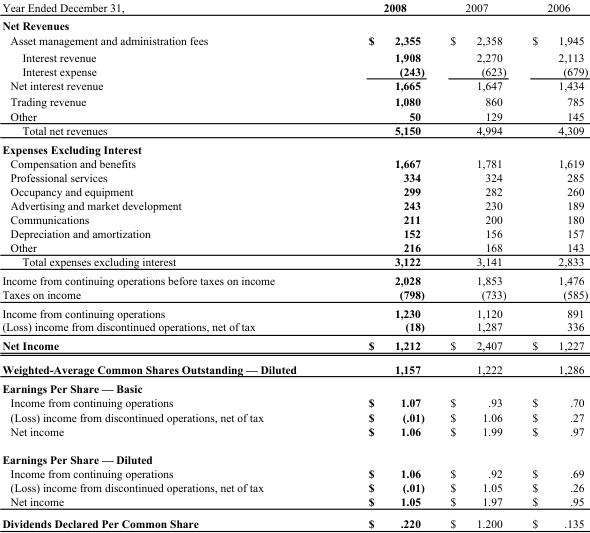table: (1, 0, 587, 529)
table column: (1, 0, 331, 529), (331, 0, 436, 529), (436, 0, 518, 529), (518, 0, 587, 529)
table column header: (1, 0, 587, 16)
table projected row header: (1, 444, 587, 466), (1, 378, 587, 395), (1, 16, 587, 32), (1, 139, 587, 155)
table row: (1, 356, 587, 378), (1, 444, 587, 466), (1, 335, 587, 356), (1, 423, 587, 444), (1, 494, 587, 512), (1, 122, 587, 139), (1, 270, 587, 287), (1, 378, 587, 395), (1, 512, 587, 529), (1, 0, 587, 16), (1, 16, 587, 32), (1, 32, 587, 48), (1, 77, 587, 93), (1, 139, 587, 155), (1, 254, 587, 270), (1, 287, 587, 303), (1, 303, 587, 319), (1, 319, 587, 335), (1, 48, 587, 63), (1, 93, 587, 108), (1, 197, 587, 212), (1, 63, 587, 77), (1, 108, 587, 122), (1, 155, 587, 169), (1, 169, 587, 183), (1, 183, 587, 197), (1, 212, 587, 226), (1, 226, 587, 240), (1, 240, 587, 254), (1, 395, 587, 409), (1, 409, 587, 423), (1, 466, 587, 480), (1, 480, 587, 494)
